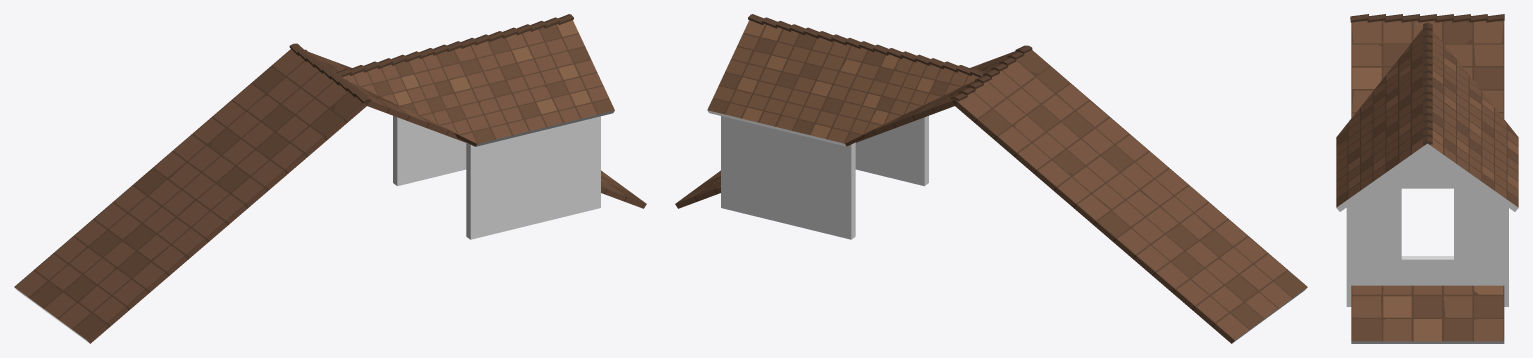
The model's file is Roof4_C9_04.fbx.
3 renders of one model, left to right at view 1: azimuth 30°, elevation 25°; view 2: azimuth 150°, elevation 25°; view 3: azimuth 270°, elevation 25°, orthographic. The views are drawn at different scales.
Visible parts, largest first — view 1: Roof4_C9_04; view 2: Roof4_C9_04; view 3: Roof4_C9_04.
Boxes of the visible parts, <box> form: Roof4_C9_04: <box>14,14,646,343</box>; Roof4_C9_04: <box>675,14,1307,343</box>; Roof4_C9_04: <box>1336,14,1518,343</box>.
Size of the model in its own units: 1105 by 338 by 298.
